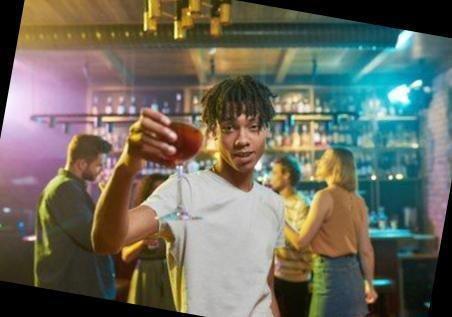Drunk: (214, 100, 265, 167)
